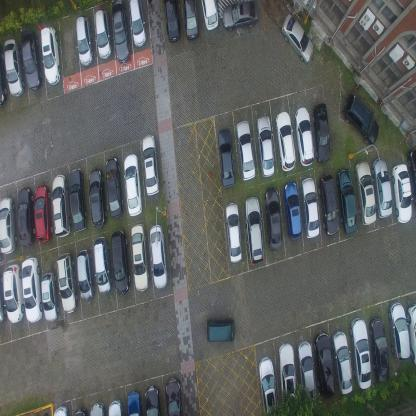car: (343, 91, 381, 147), (282, 12, 314, 63), (350, 316, 372, 390), (21, 256, 43, 324), (356, 161, 378, 225), (338, 168, 359, 235), (369, 316, 390, 383), (318, 174, 340, 237), (109, 0, 131, 63), (56, 252, 79, 312), (122, 155, 144, 217), (391, 161, 412, 225), (147, 223, 167, 290), (244, 197, 264, 264), (275, 111, 296, 174), (109, 230, 129, 296), (316, 334, 338, 394), (20, 31, 42, 91), (333, 330, 353, 396), (235, 120, 256, 182), (388, 301, 410, 360), (3, 263, 24, 323), (51, 174, 70, 240), (372, 156, 392, 218), (223, 0, 259, 34), (256, 117, 276, 178), (3, 38, 24, 96), (40, 27, 61, 85), (105, 156, 124, 220), (257, 356, 279, 411), (68, 166, 86, 233), (33, 184, 53, 244), (264, 185, 283, 248), (294, 108, 314, 167), (301, 177, 320, 239), (87, 166, 106, 228), (216, 128, 235, 189), (130, 225, 147, 293), (142, 132, 160, 196), (224, 202, 243, 262), (93, 234, 112, 294), (278, 343, 298, 399), (299, 340, 318, 398), (314, 103, 332, 164), (284, 181, 302, 241), (17, 186, 35, 246), (76, 247, 96, 300), (0, 196, 18, 254), (75, 14, 94, 65), (94, 8, 112, 60), (40, 272, 59, 321), (162, 0, 181, 44), (130, 0, 147, 48), (206, 318, 236, 344), (164, 377, 184, 415), (200, 0, 220, 33), (184, 0, 199, 42), (407, 302, 416, 366), (0, 49, 9, 106), (144, 383, 160, 415), (408, 146, 416, 204), (126, 389, 141, 415), (108, 397, 122, 415), (89, 402, 106, 415), (52, 405, 70, 415), (72, 407, 89, 415)
